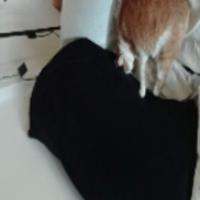asleep: (113, 0, 190, 98)
